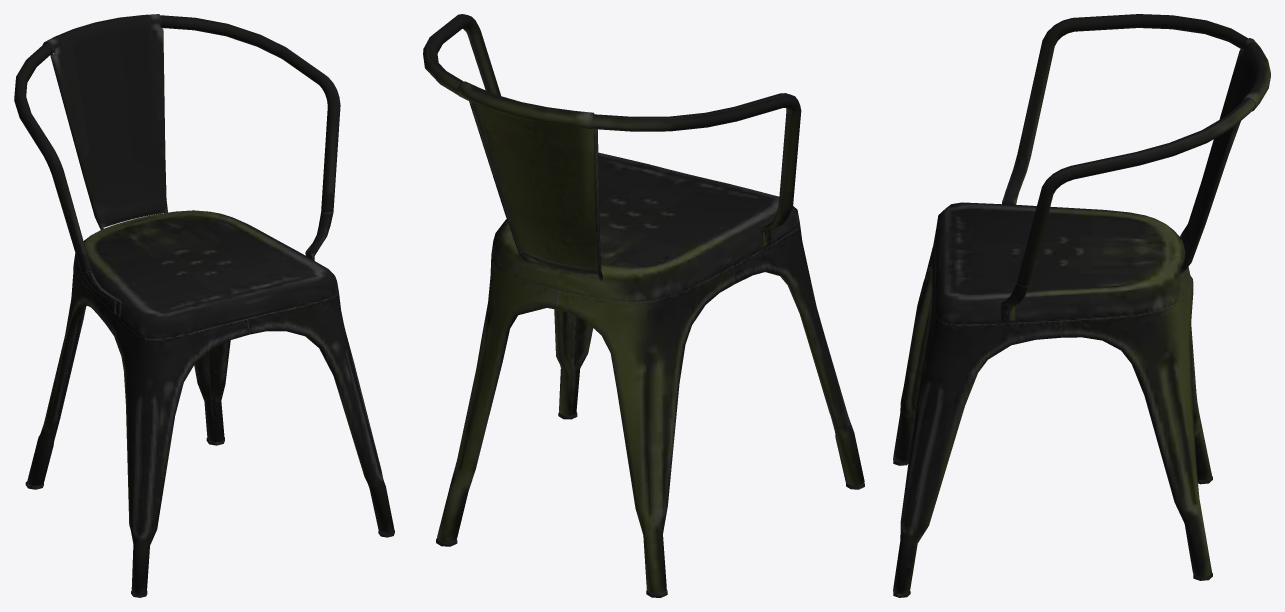
The model's file is SM_Rusty_Tolix_A56_e7d8e2.glb.
The picture shows the model from 3 angles, left to right: view 1: azimuth 30°, elevation 25°; view 2: azimuth 150°, elevation 25°; view 3: azimuth 270°, elevation 25°; orthographic projection. The views are drawn at different scales.
Bounding box in the file's own units: 0.5034 × 0.7015 × 0.5218.
Materials: 1 (1 with a texture image).
